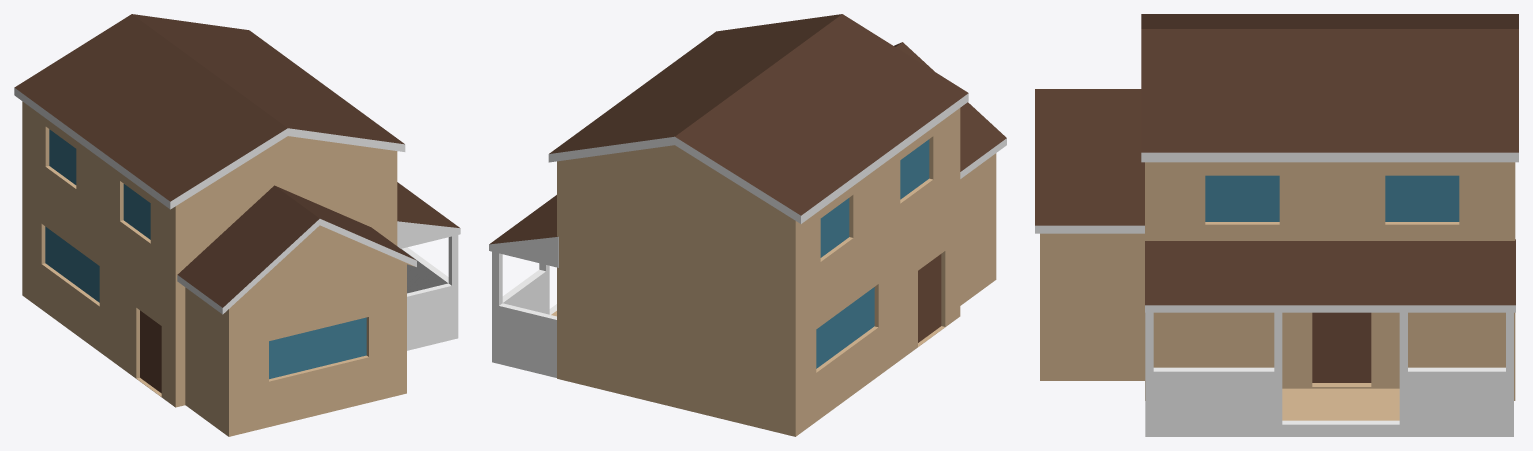
Rendered from house2.fbx.
The picture shows the model from 3 angles, left to right: view 1: azimuth 30°, elevation 25°; view 2: azimuth 150°, elevation 25°; view 3: azimuth 270°, elevation 25°; orthographic projection. The views are drawn at different scales.
Parts seen in each view (by area): view 1: Cube.025, Cube.026, Cube.029, Cube.030; view 2: Cube.025, Cube.026, Cube.029, Cube.030; view 3: Cube.025, Cube.026, Cube.030, Cube.029.
Boxes of the visible parts, bbox=[...] form: Cube.025: bbox=[14, 14, 405, 407]; Cube.026: bbox=[177, 185, 416, 436]; Cube.029: bbox=[401, 235, 458, 350]; Cube.030: bbox=[397, 182, 460, 248]; Cube.025: bbox=[548, 14, 968, 436]; Cube.026: bbox=[894, 42, 1006, 305]; Cube.029: bbox=[492, 251, 556, 377]; Cube.030: bbox=[489, 195, 558, 267]; Cube.025: bbox=[1141, 14, 1518, 400]; Cube.026: bbox=[1035, 89, 1144, 380]; Cube.030: bbox=[1145, 239, 1515, 312]; Cube.029: bbox=[1145, 312, 1513, 436].
Size of the model in its own units: 1.64 by 1.36 by 1.94.
